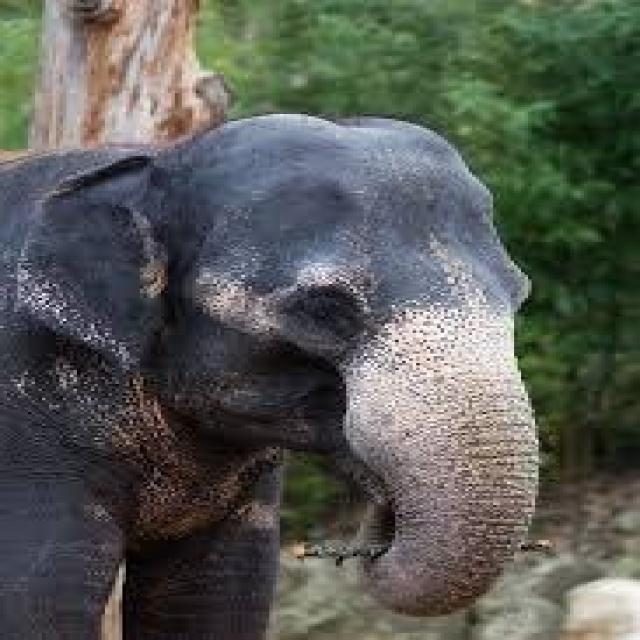Elephant: (0, 109, 539, 638)
